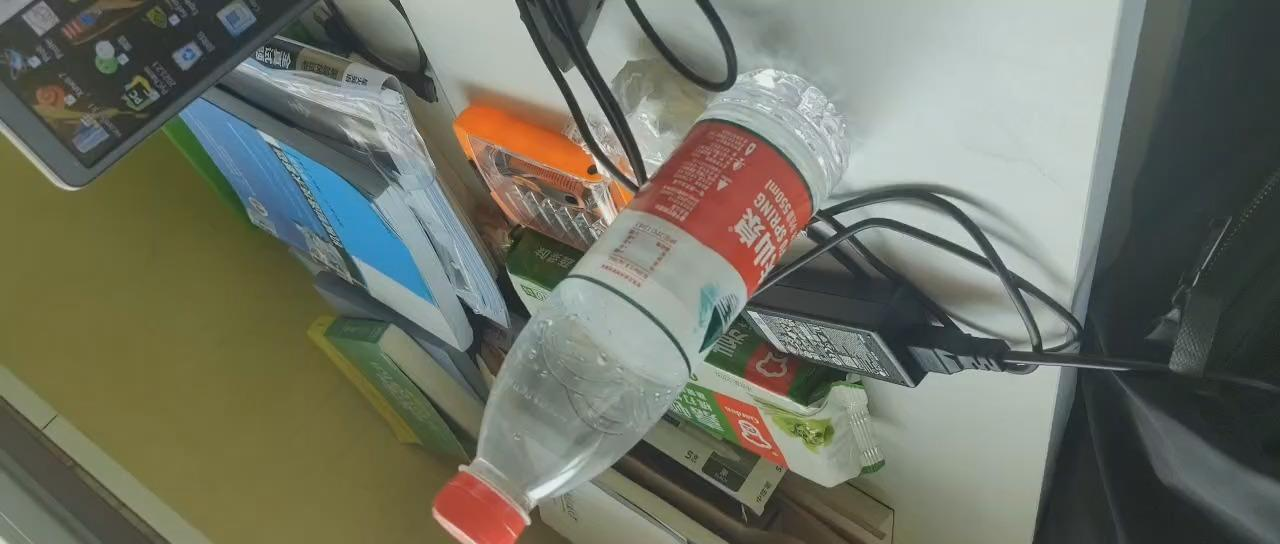BIODEGRADABLE: (431, 63, 846, 544)
